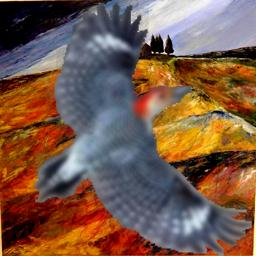Woodpecker: (33, 0, 252, 256)
